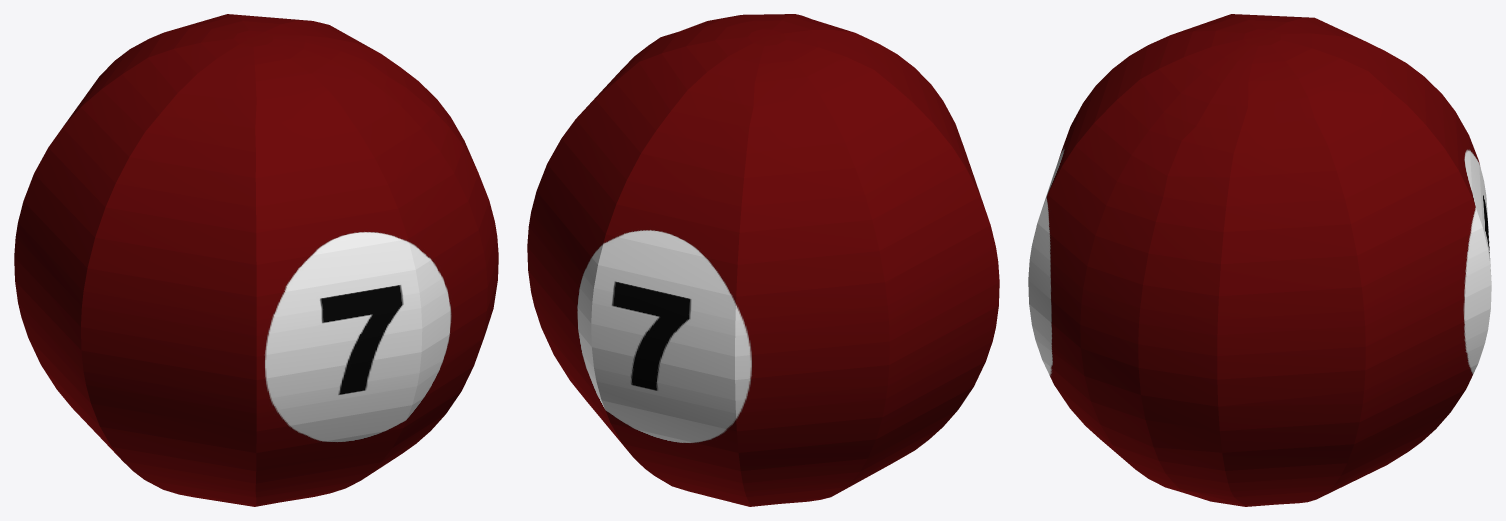
Rendered from 7Ball.fbx.
3 views of the same model, side by side, from view 1: azimuth 30°, elevation 25°; view 2: azimuth 150°, elevation 25°; view 3: azimuth 270°, elevation 25° (orthographic).
Parts seen in each view (by area): view 1: Eight_Ball_eight_ball; view 2: Eight_Ball_eight_ball; view 3: Eight_Ball_eight_ball.
Boxes of the visible parts, bbox=[...] form: Eight_Ball_eight_ball: bbox=[14, 14, 498, 506]; Eight_Ball_eight_ball: bbox=[527, 14, 999, 506]; Eight_Ball_eight_ball: bbox=[1028, 14, 1491, 506].
Bounding box in the file's own units: 0.3153 × 0.3281 × 0.3081.
